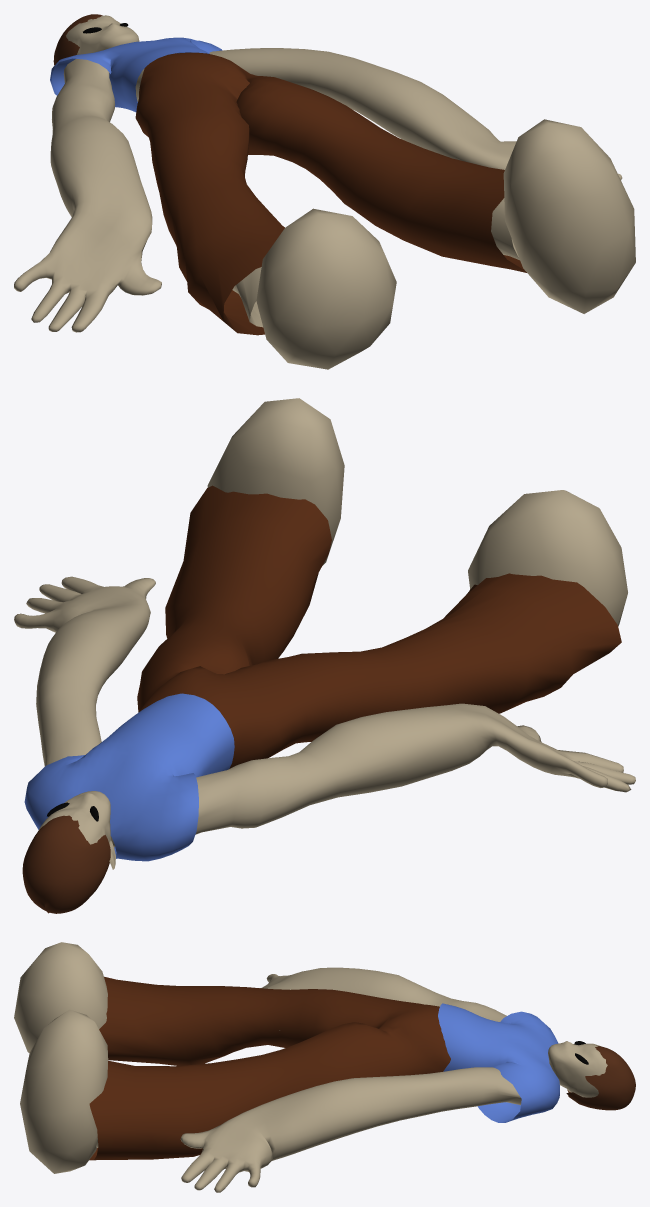
The model's file is kid2.glb.
The picture shows the model from 3 angles, top to bottom: view 1: azimuth 30°, elevation 25°; view 2: azimuth 150°, elevation 25°; view 3: azimuth 270°, elevation 25°; orthographic projection. The views are drawn at different scales.
Parts seen in each view (by area): view 1: Cube.004; view 2: Cube.004; view 3: Cube.004.
Boxes of the visible parts, <box> form: Cube.004: <box>14,14,635,369</box>; Cube.004: <box>14,398,635,913</box>; Cube.004: <box>14,942,635,1192</box>.
Size of the model in its own units: 2.24 by 0.7141 by 2.69.
